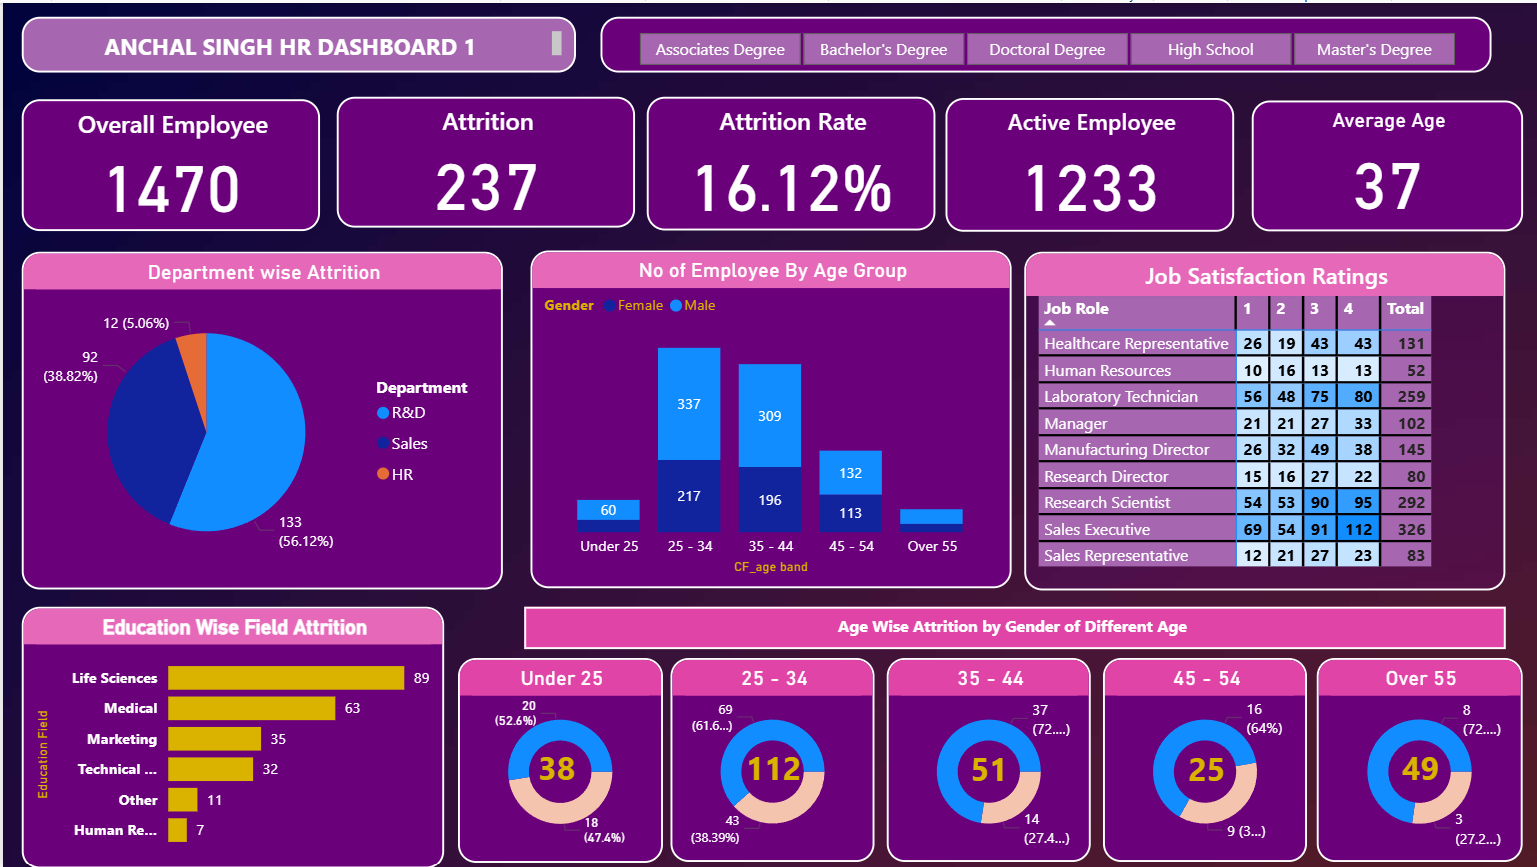

Layout of this report page (visuals, bound fields, positions):
{"tool":"powerbi","page":{"name":"Page 1","canvas":[1280,720],"ordinal":0},"visuals":[{"type":"textbox","box":[15.1,11,461.1,46.7],"z":0},{"type":"card","title":"Overall Employee ","fields":{"Values":["Sum(HR data.Employee Count)"]},"box":[15.1,79.6,248.4,109.8],"z":1000},{"type":"card","title":"Attrition ","fields":{"Values":["Sum(HR data.Attrition Rate)"]},"box":[277.5,77.9,248.4,109.1],"z":2000},{"type":"card","title":"Attrition Rate ","fields":{"Values":["HR data.Attrition Rate"]},"box":[535.2,77.9,240.1,111.2],"z":3000},{"type":"card","title":"Active Employee ","fields":{"Values":["HR data.Active Emp"]},"box":[783.6,79,240.1,111.2],"z":4000},{"type":"card","title":"Average Age ","fields":{"Values":["Avg(HR data.Age)"]},"box":[1038.2,81.1,225.5,109.1],"z":5000},{"type":"pieChart","title":"Department wise Attrition ","fields":{"Category":["HR data.Department"],"Y":["Sum(HR data.Attrition Count)"]},"box":[15.1,207.2,400,281],"z":6000},{"type":"columnChart","title":"No of Employee By Age Group","fields":{"Category":["HR data.CF_age band"],"Y":["Sum(HR data.Employee Count)"],"Series":["HR data.Gender"]},"box":[438.6,205.8,400,281],"z":7000},{"type":"pivotTable","title":"Job Satisfaction Ratings","fields":{"Rows":["HR data.Job Role"],"Columns":["HR data.Job Satisfaction"],"Values":["Sum(HR data.Employee Count)"]},"box":[849.1,206.8,400.1,281.6],"z":8000},{"type":"barChart","title":"Education Wise Field Attrition","fields":{"Category":["HR data.Education Field"],"Y":["Sum(HR data.Attrition Count)"]},"box":[15.6,502,351.3,218.2],"z":9000},{"type":"textbox","box":[433.1,501.9,816.3,35.6],"z":10000},{"type":"donutChart","title":"Under 25","fields":{"Category":["HR data.Gender"],"Y":["Sum(HR data.Attrition Count)"],"Series":["HR data.CF_age band"]},"box":[378.5,544.6,170,170],"z":11000},{"type":"donutChart","title":"25 - 34","fields":{"Category":["HR data.Gender"],"Y":["Sum(HR data.Attrition Count)"],"Series":["HR data.CF_age band"]},"box":[555.3,544.6,169.7,169.7],"z":12000},{"type":"donutChart","title":"45 - 54 ","fields":{"Category":["HR data.Gender"],"Y":["Sum(HR data.Attrition Count)"],"Series":["HR data.CF_age band"]},"box":[914.8,544.6,169.7,169.7],"z":13000},{"type":"donutChart","title":"35 - 44 ","fields":{"Category":["HR data.Gender"],"Y":["Sum(HR data.Attrition Count)"],"Series":["HR data.CF_age band"]},"box":[734.4,544.6,169.7,169.7],"z":14000},{"type":"donutChart","title":"Over 55 ","fields":{"Category":["HR data.Gender"],"Y":["Sum(HR data.Attrition Count)"],"Series":["HR data.CF_age band"]},"box":[1092.8,544.6,170.9,169.7],"z":15000},{"type":"slicer","fields":{"Values":["HR data.Education"]},"box":[496.7,11,741,46.7],"z":16000},{"type":"card","fields":{"Values":["Sum(HR data.Attrition Count)"]},"box":[439,611.1,43.9,51],"z":17000},{"type":"card","fields":{"Values":["Sum(HR data.Attrition Count)"]},"box":[609.9,611.1,61.7,51],"z":18000},{"type":"card","fields":{"Values":["Sum(HR data.Attrition Count)"]},"box":[798.5,612.2,43.9,51],"z":19000},{"type":"card","fields":{"Values":["Sum(HR data.Attrition Count)"]},"box":[978.9,612.2,43.9,51],"z":20000},{"type":"card","fields":{"Values":["Sum(HR data.Attrition Count)"]},"box":[1156.8,611.1,43.9,51],"z":21000}]}

Visuals, with their boxes in screenshot pixels (x1, y1, x2, y2), scaled from the page's 1280x720 canvas onto the 1537x867 screenshot:
textbox: x1=18 y1=13 x2=572 y2=69
"Overall Employee " card: x1=18 y1=96 x2=316 y2=228
"Attrition " card: x1=333 y1=94 x2=631 y2=225
"Attrition Rate " card: x1=643 y1=94 x2=931 y2=228
"Active Employee " card: x1=941 y1=95 x2=1229 y2=229
"Average Age " card: x1=1247 y1=98 x2=1517 y2=229
"Department wise Attrition " pieChart: x1=18 y1=250 x2=498 y2=588
"No of Employee By Age Group" columnChart: x1=527 y1=248 x2=1007 y2=586
"Job Satisfaction Ratings" pivotTable: x1=1020 y1=249 x2=1500 y2=588
"Education Wise Field Attrition" barChart: x1=19 y1=604 x2=441 y2=866
textbox: x1=520 y1=604 x2=1500 y2=647
"Under 25" donutChart: x1=454 y1=656 x2=659 y2=860
"25 - 34" donutChart: x1=667 y1=656 x2=871 y2=860
"45 - 54 " donutChart: x1=1098 y1=656 x2=1302 y2=860
"35 - 44 " donutChart: x1=882 y1=656 x2=1086 y2=860
"Over 55 " donutChart: x1=1312 y1=656 x2=1517 y2=860
slicer - HR data.Education: x1=596 y1=13 x2=1486 y2=69
card - Sum(HR data.Attrition Count): x1=527 y1=736 x2=580 y2=797
card - Sum(HR data.Attrition Count): x1=732 y1=736 x2=806 y2=797
card - Sum(HR data.Attrition Count): x1=959 y1=737 x2=1012 y2=799
card - Sum(HR data.Attrition Count): x1=1175 y1=737 x2=1228 y2=799
card - Sum(HR data.Attrition Count): x1=1389 y1=736 x2=1442 y2=797
